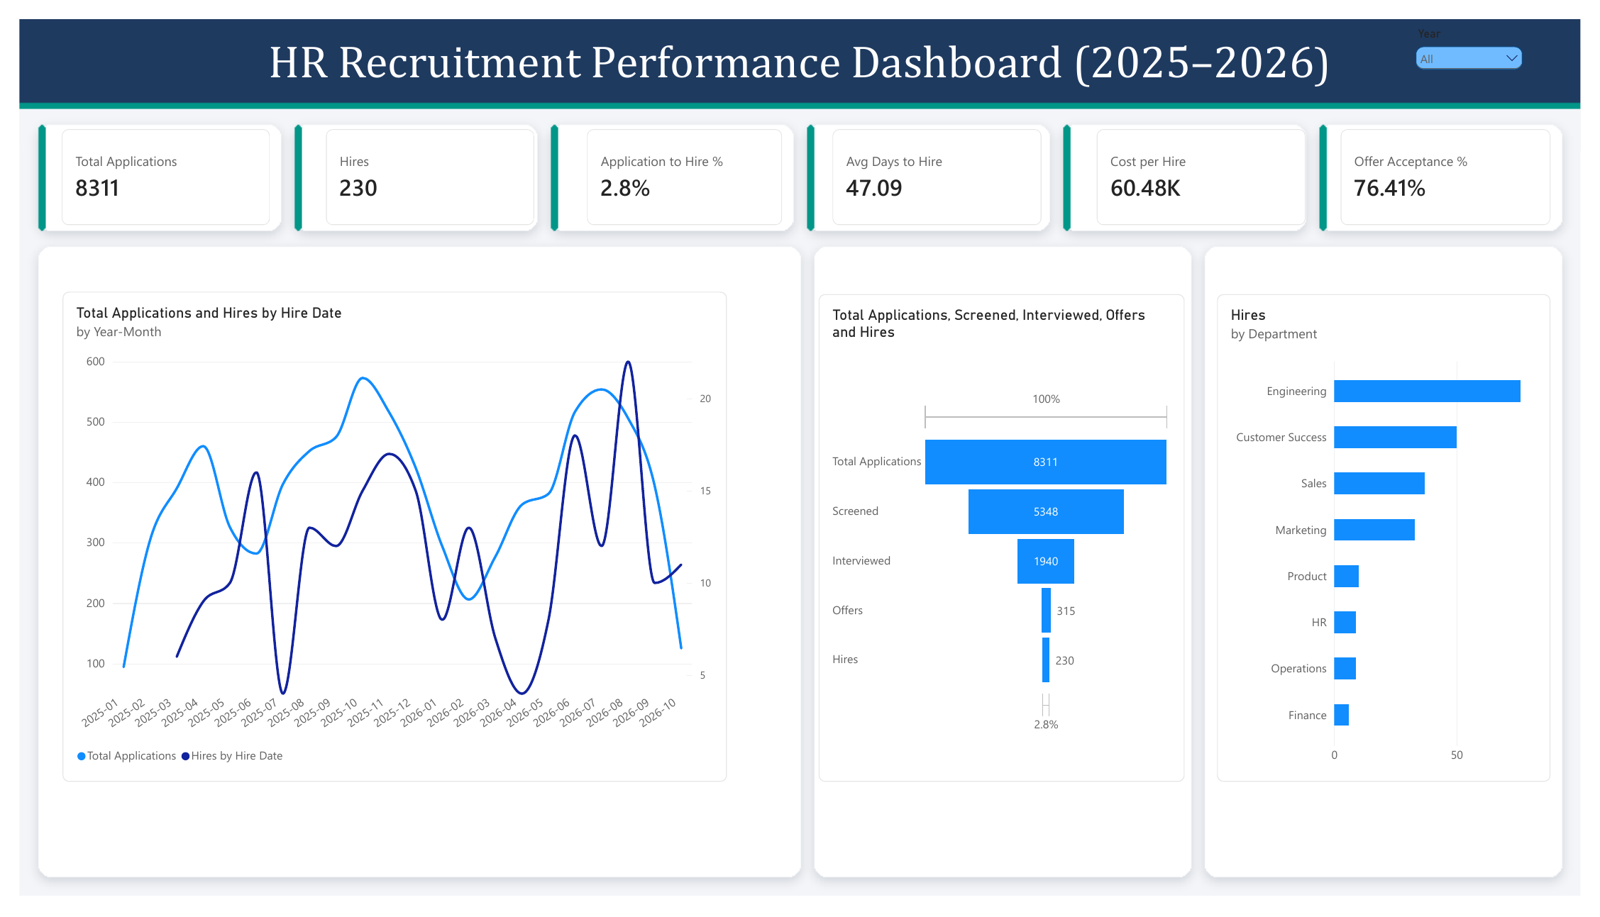

This screenshot's page, from the dashboard's own definition file:
{"tool":"powerbi","page":{"name":"Overview","canvas":[1920,1080],"ordinal":0},"visuals":[{"type":"textbox","box":[0,0,1920,105],"z":0},{"type":"cardVisual","fields":{"Data":["_Measures.Total Applications"]},"box":[51.7,135,256.7,118.3],"z":1000},{"type":"cardVisual","fields":{"Data":["_Measures.Application to Hire %"]},"box":[697.5,135,240,117.5],"z":2000},{"type":"cardVisual","fields":{"Data":["_Measures.Hires"]},"box":[376.7,135,256.7,118.3],"z":3000},{"type":"cardVisual","fields":{"Data":["_Measures.Avg Days to Hire"]},"box":[1000,135,256.7,118.3],"z":4000},{"type":"cardVisual","fields":{"Data":["_Measures.Cost per Hire"]},"box":[1325,135,256.7,118.3],"z":5000},{"type":"cardVisual","fields":{"Data":["_Measures.Offer Acceptance %"]},"box":[1625,135,257.5,117.5],"z":6000},{"type":"lineChart","fields":{"Category":["DimDate.Year-Month"],"Y":["_Measures.Total Applications"],"Y2":["_Measures.Hires by Hire Date"]},"box":[52.5,335,817.5,602.5],"z":7000},{"type":"funnel","fields":{"Y":["_Measures.Total Applications","_Measures.Screened","_Measures.Interviewed","_Measures.Offers","_Measures.Hires"]},"box":[982.5,337.5,450,600],"z":8000},{"type":"barChart","fields":{"Category":["Jobs.Department"],"Y":["_Measures.Hires"]},"box":[1472.5,337.5,410,600],"z":9000},{"type":"slicer","fields":{"Values":["DimDate.Year"]},"box":[1712,10,142,96],"z":10000}]}

Visuals, with their boxes in screenshot pixels (x1, y1, x2, y2), scaled from the page's 1920x1080 canvas onto the 1600x917 screenshot:
textbox: [0,0,1599,89]
cardVisual - _Measures.Total Applications: [43,115,257,215]
cardVisual - _Measures.Application to Hire %: [581,115,781,214]
cardVisual - _Measures.Hires: [314,115,528,215]
cardVisual - _Measures.Avg Days to Hire: [833,115,1047,215]
cardVisual - _Measures.Cost per Hire: [1104,115,1318,215]
cardVisual - _Measures.Offer Acceptance %: [1354,115,1569,214]
lineChart - DimDate.Year-Month x _Measures.Total Applications: [44,284,725,796]
funnel - _Measures.Total Applications x _Measures.Screened: [819,287,1194,796]
barChart - Jobs.Department x _Measures.Hires: [1227,287,1569,796]
slicer - DimDate.Year: [1427,8,1545,90]
